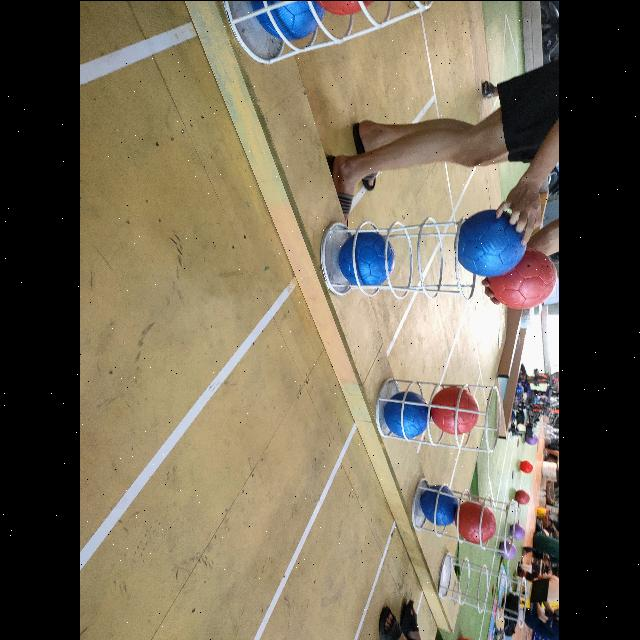B: (338, 230, 396, 288), (251, 1, 321, 40), (385, 390, 431, 438), (421, 484, 455, 526)
R: (431, 385, 481, 433), (457, 500, 498, 542), (313, 0, 379, 14)
